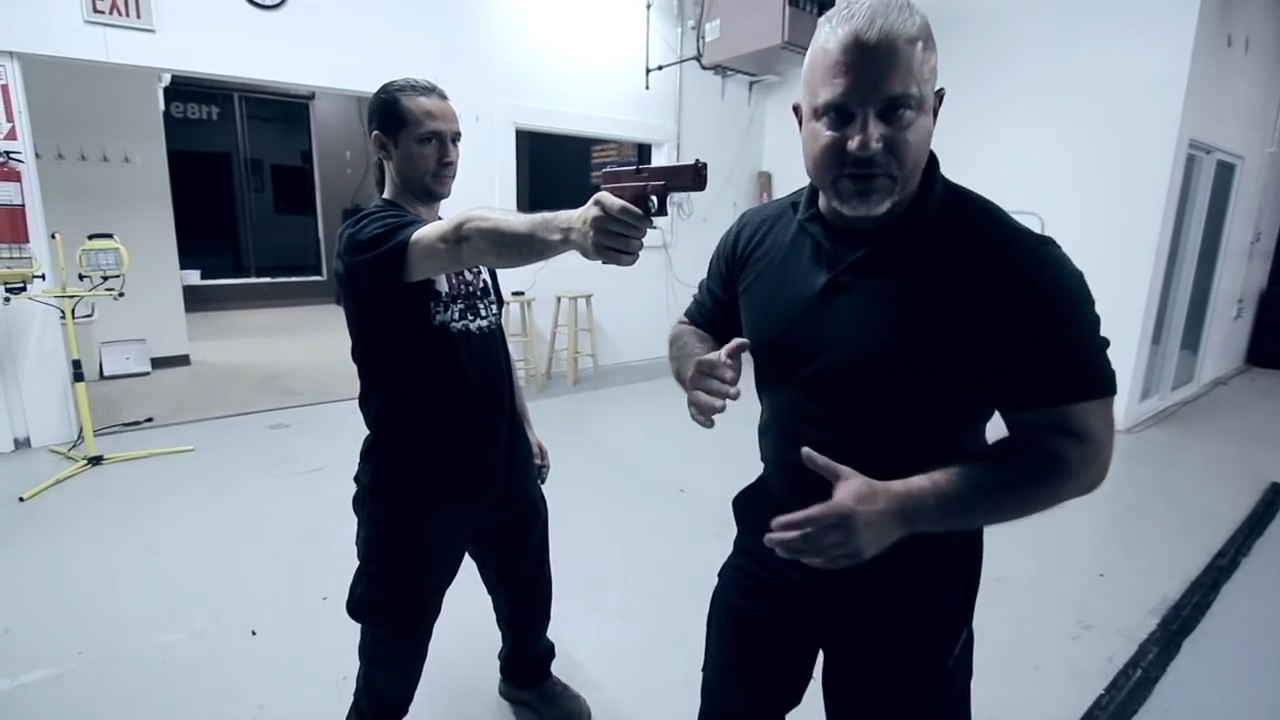pistol: (600, 156, 709, 220)
